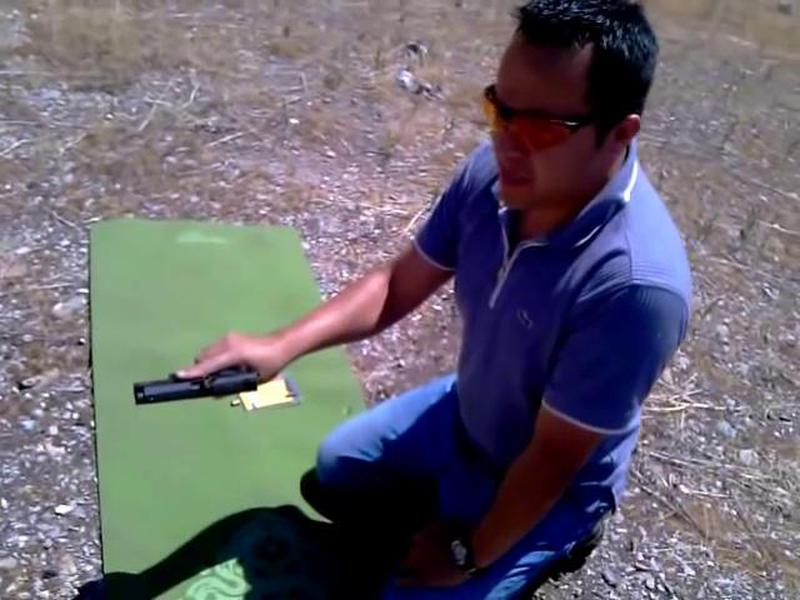Pistola: (125, 352, 277, 419)
